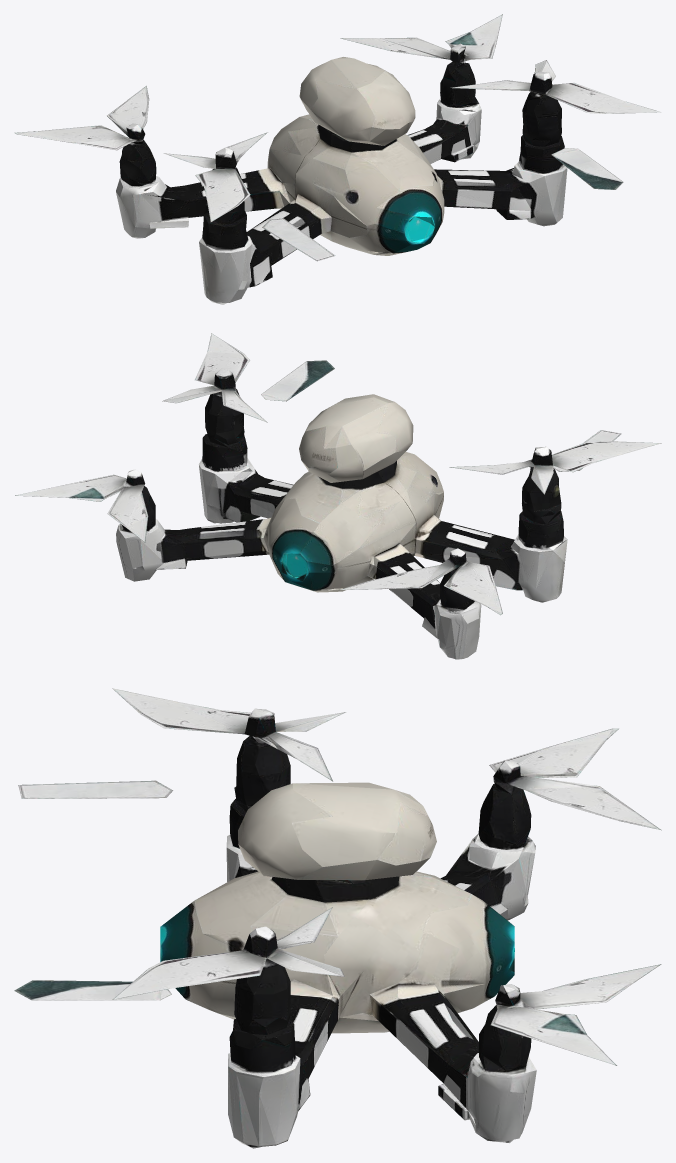
The model's file is module-drone.glb.
3 views of the same model, one above another, from view 1: azimuth 30°, elevation 25°; view 2: azimuth 150°, elevation 25°; view 3: azimuth 270°, elevation 25° (orthographic). The views are drawn at different scales.
Bounding box in the file's own units: 1.89 × 0.6263 × 1.54.
1 material, 1 textured.
